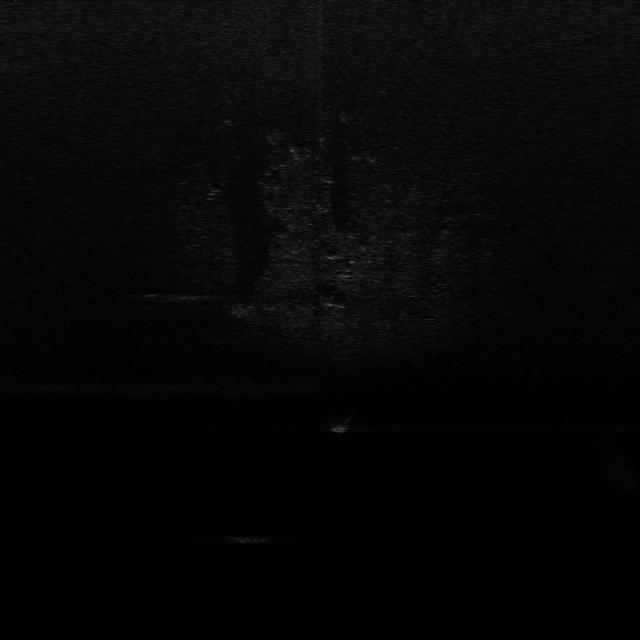cube: (226, 521, 283, 548)
square cage: (328, 414, 359, 436)
